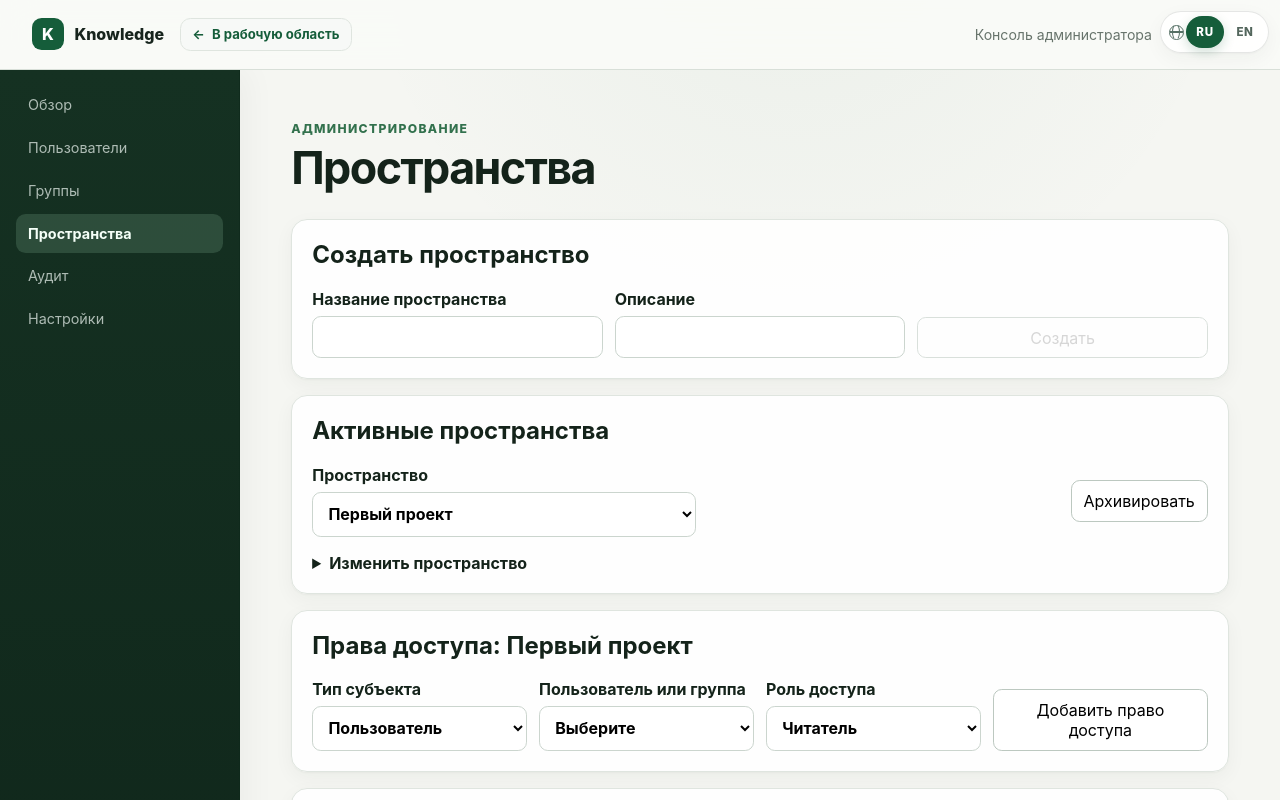
Scenario: spaces administration › selects a remaining valid space after archiving the first space and a delayed refetch
Expected: the heading "Права доступа: Первый проект" is shown, x1=312 y1=630 x2=693 y2=660
What coordinates should you click on to do the following:
click the button "Архивировать"
I would click on:
 (1139, 501)
Its box is x1=1071 y1=480 x2=1208 y2=522.
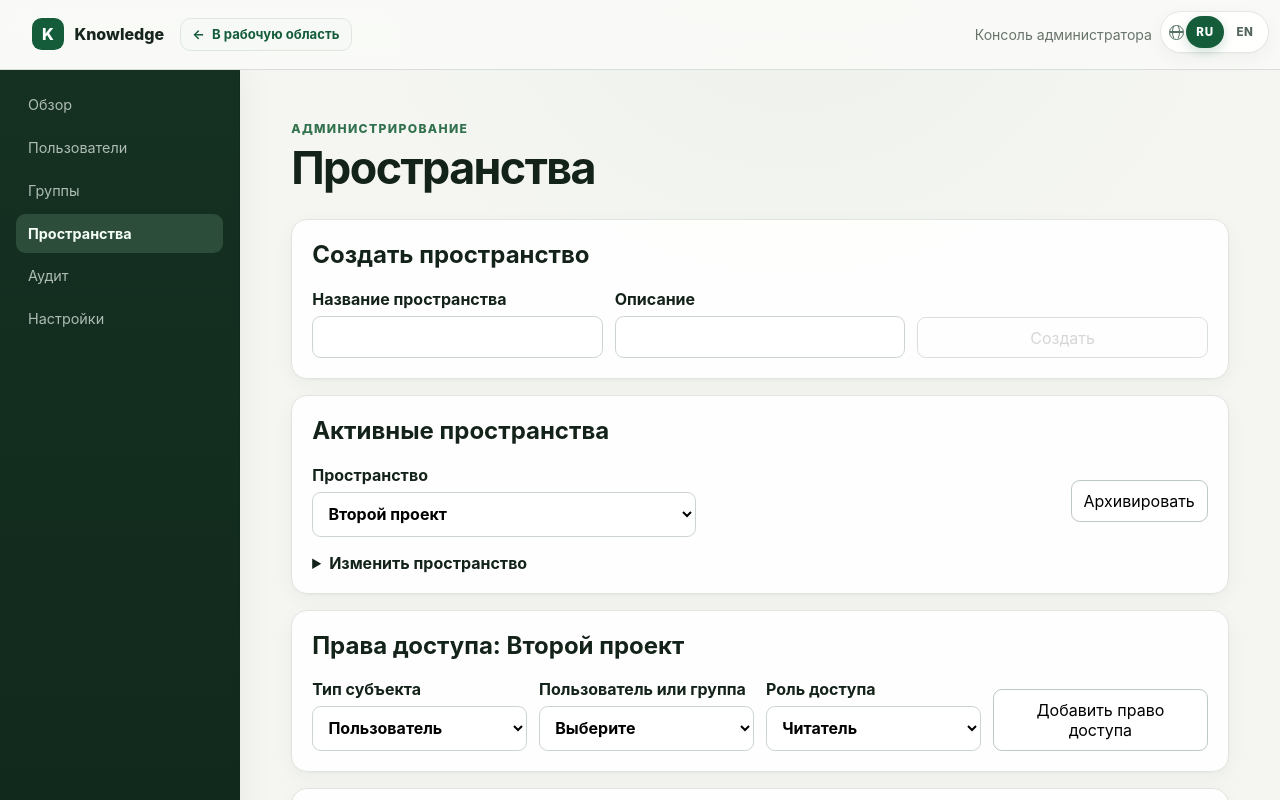
Expected: the heading "Права доступа: Второй проект" is shown, x1=312 y1=630 x2=684 y2=660
